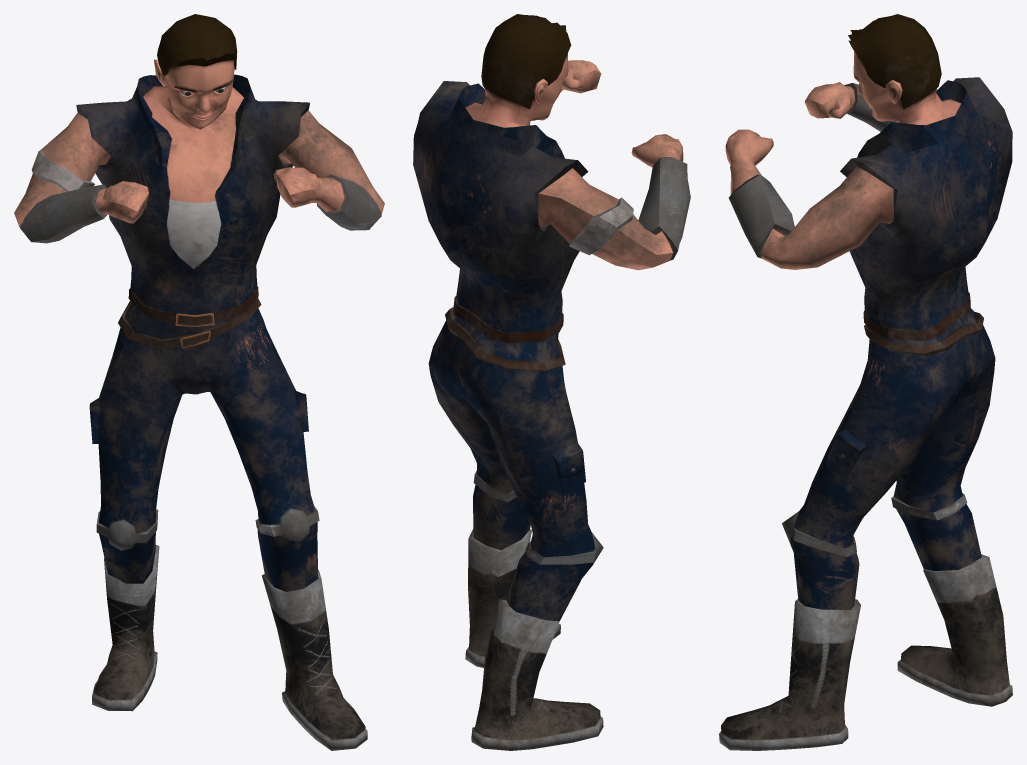
Rendered from Anim_especial_jugador.0016.obj.
The picture shows the model from 3 angles, left to right: view 1: azimuth 30°, elevation 25°; view 2: azimuth 150°, elevation 25°; view 3: azimuth 270°, elevation 25°; orthographic projection.
Parts seen in each view (by area): view 1: polySurface1; view 2: polySurface1; view 3: polySurface1.
Boxes of the visible parts, bbox=[...] form: polySurface1: bbox=[14, 14, 384, 750]; polySurface1: bbox=[413, 14, 690, 750]; polySurface1: bbox=[719, 14, 1012, 750].
Size of the model in its own units: 4.2 by 9.36 by 3.61.
